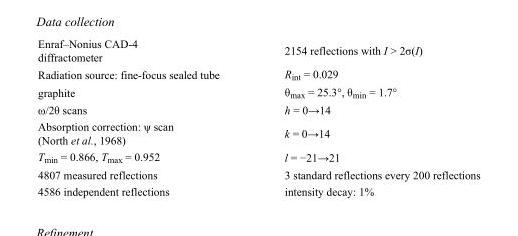table: (37, 36, 479, 197)
table column: (251, 36, 479, 197), (37, 36, 251, 197)
table row: (37, 117, 479, 147), (37, 36, 479, 65), (37, 65, 479, 83), (37, 83, 479, 101), (37, 147, 479, 165), (37, 165, 479, 182), (37, 101, 479, 117), (37, 182, 479, 197)
